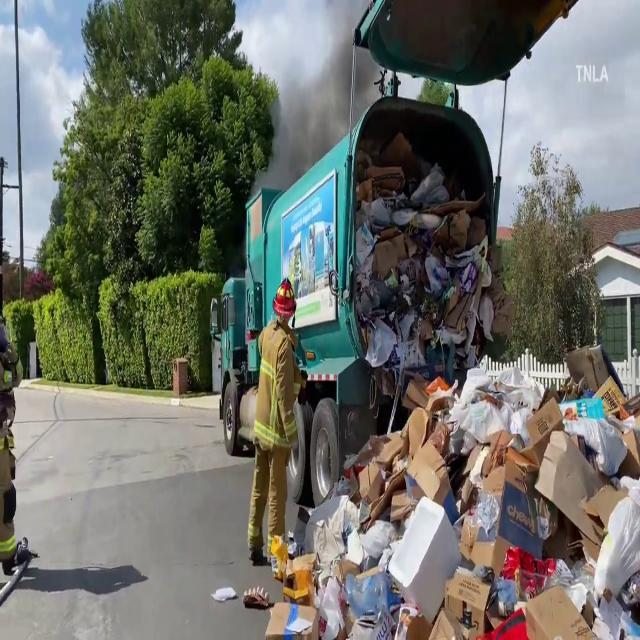Smoke: (254, 1, 372, 199)
